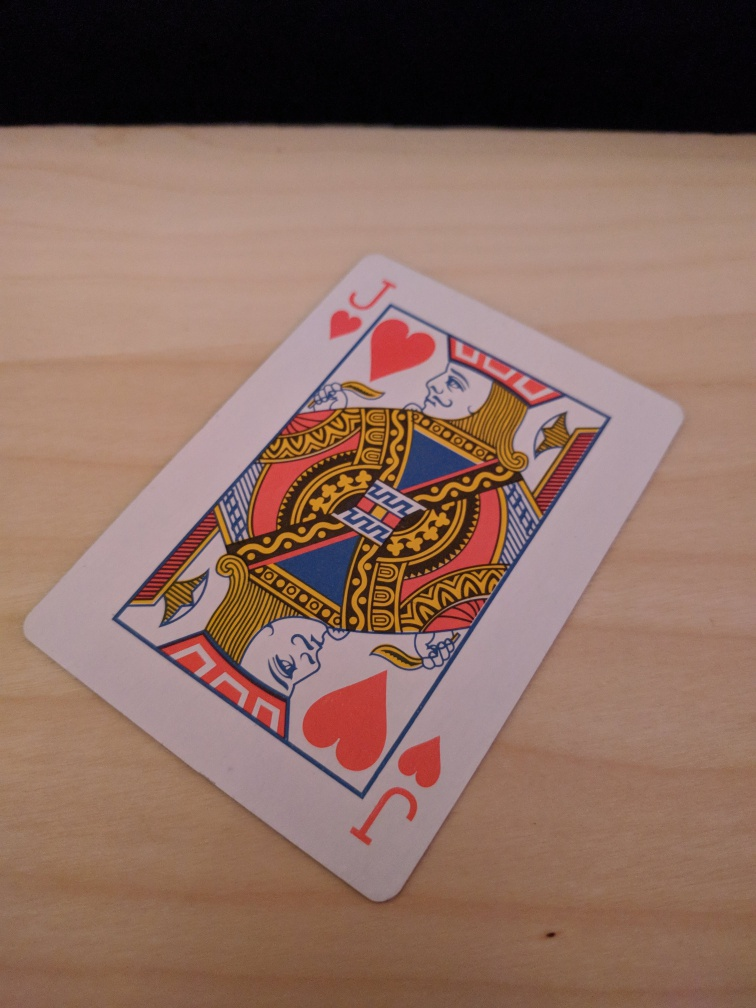jack: (22, 251, 686, 904)
